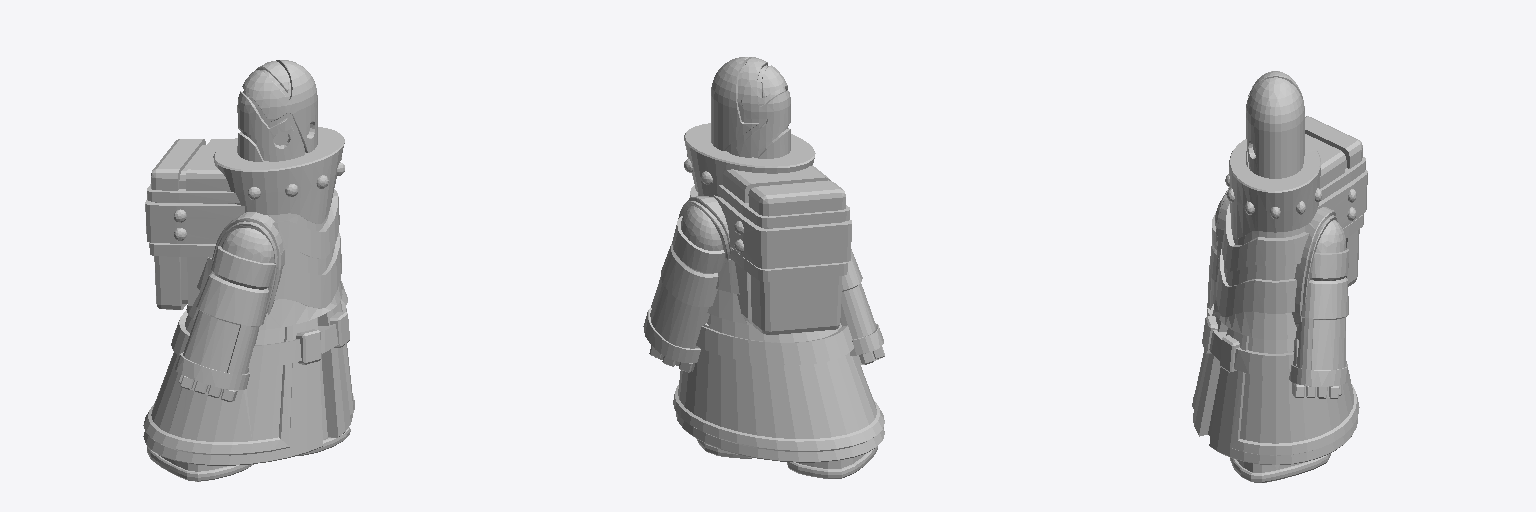
The model's file is agent_squeezed.obj.
3 views of the same model, side by side, from view 1: azimuth 30°, elevation 25°; view 2: azimuth 150°, elevation 25°; view 3: azimuth 270°, elevation 25° (orthographic).
Parts seen in each view (by area): view 1: Agent_squeezed_side_compare; view 2: Agent_squeezed_side_compare; view 3: Agent_squeezed_side_compare.
Boxes of the visible parts, <box> form: Agent_squeezed_side_compare: <box>143,60,354,481</box>; Agent_squeezed_side_compare: <box>643,57,884,478</box>; Agent_squeezed_side_compare: <box>1192,71,1367,482</box>.
Bounding box in the file's own units: 1.17 × 2 × 0.8366.